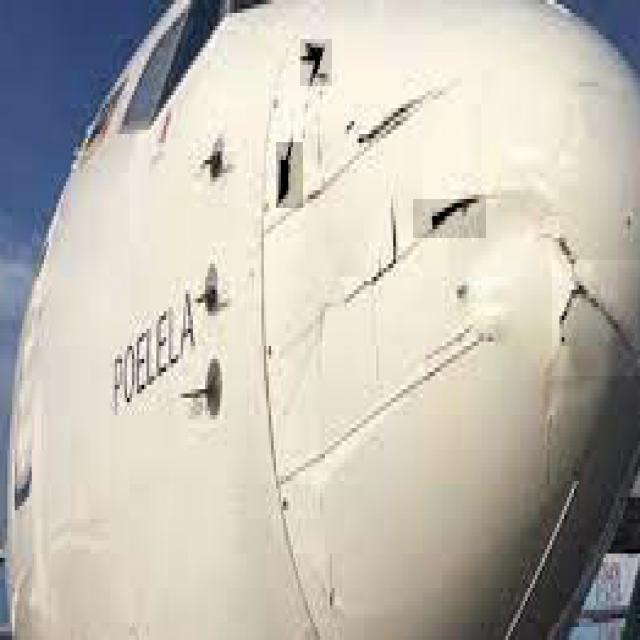crack: (553, 261, 640, 378), (414, 200, 487, 239), (277, 143, 304, 209), (302, 40, 334, 87)
